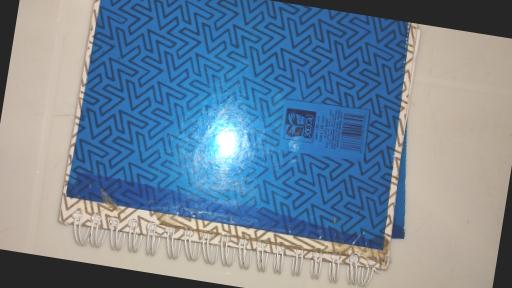notebook: (53, 0, 426, 288)
